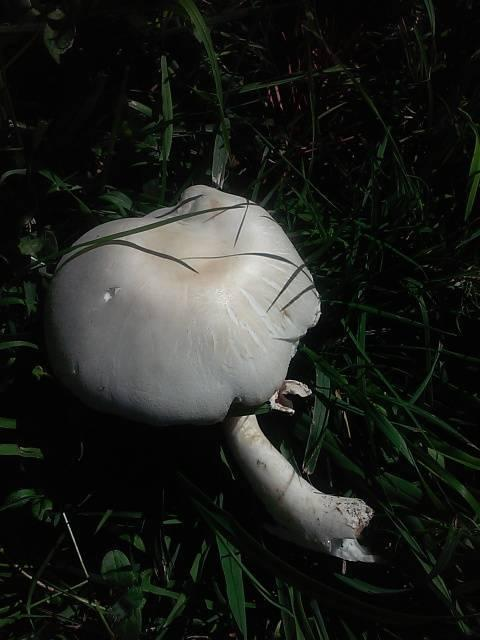Non-edible Mushroom: (40, 182, 378, 563)
